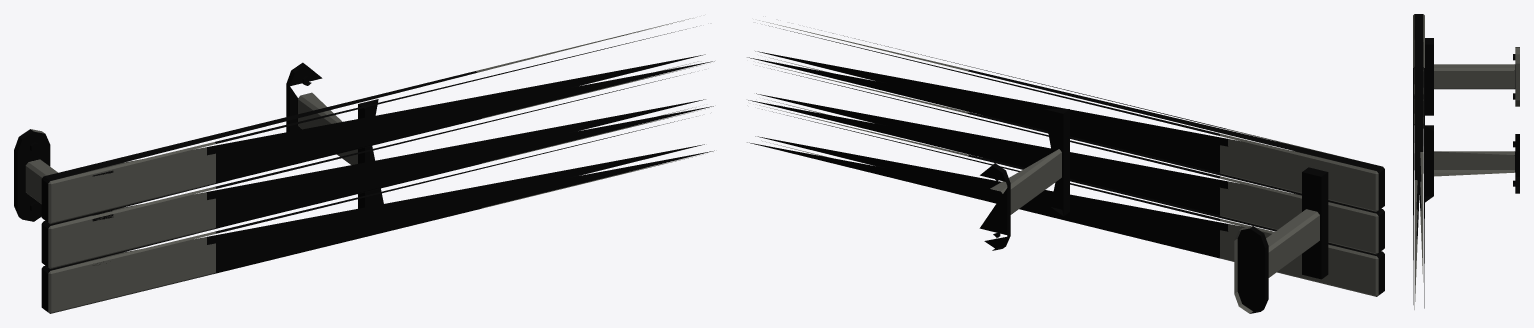
3 renders of one model, left to right at view 1: azimuth 30°, elevation 25°; view 2: azimuth 150°, elevation 25°; view 3: azimuth 270°, elevation 25°, orthographic. The views are drawn at different scales.
Bounding box in the file's own units: 1.94 × 0.368 × 0.409.
